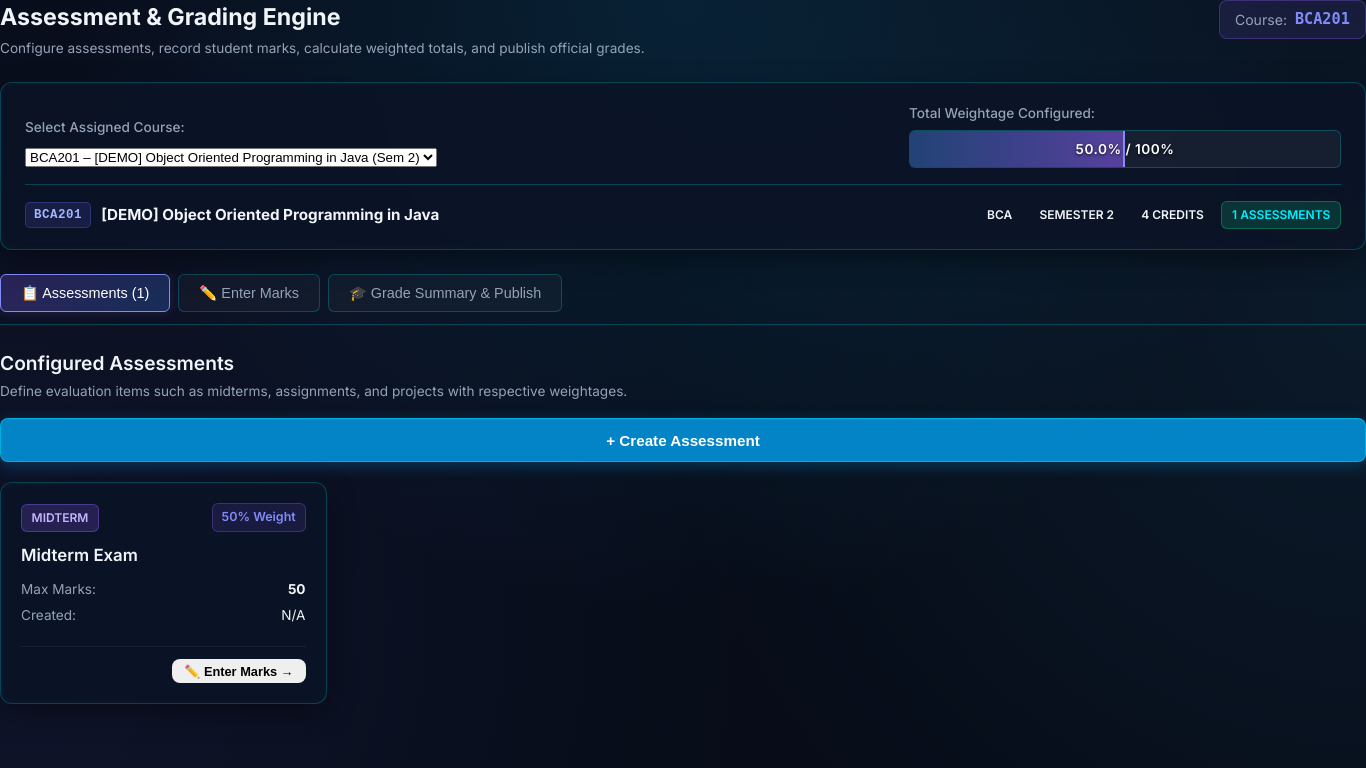
Test: Faculty Portal Components & Shell (Parts 5.2 & 5.3) › 10. FacultyAssessments calculates and publishes final student grades
Expected: the heading "Assessment & Grading Engine" is shown, [0,3,340,31]
Note: Switch to Grade Summary tab
Click the button "🎓 Grade Summary & Publish" at (445, 293), box [328,274,562,312]
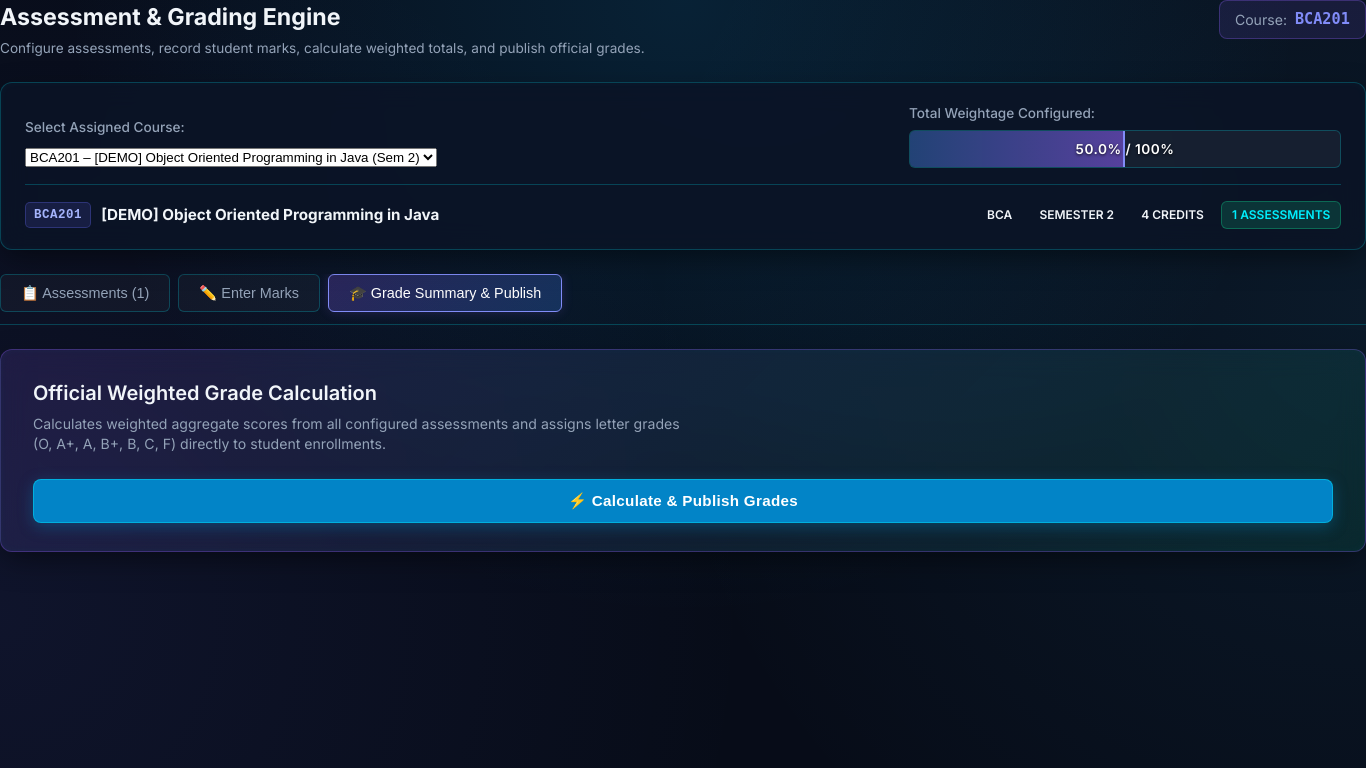
Note: Click Calculate & Publish Grades
Click the button "⚡ Calculate & Publish Grades" at (683, 501), box [33,479,1333,523]
(page scrolled)
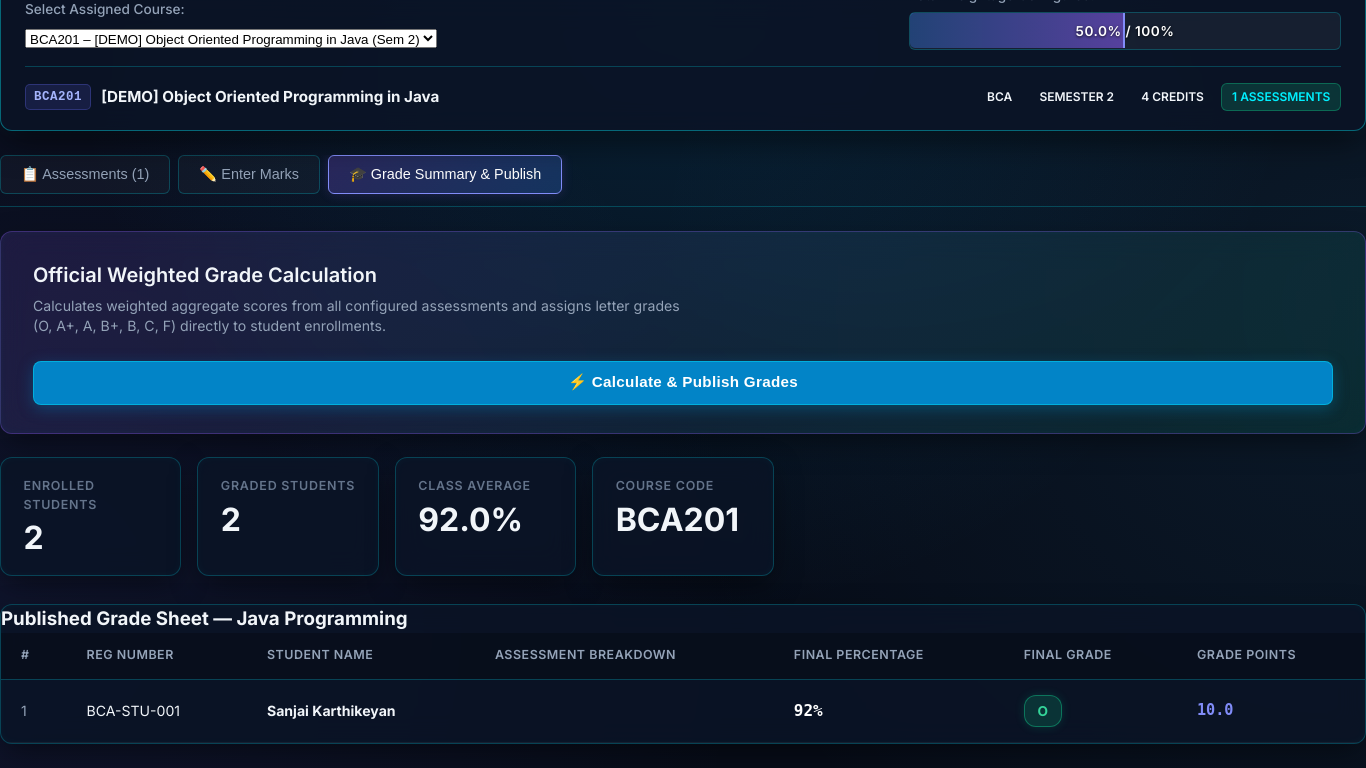
Expected: the text "Sanjai Karthikeyan" is shown, [267,702,396,719]
Expected: the text "92%" is shown, [794,701,823,720]
Expected: the text "O" is shown, [1024,695,1062,727]
